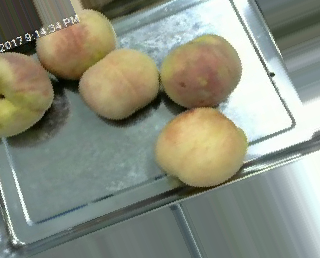Peach: (154, 108, 248, 187), (160, 33, 242, 108), (78, 47, 158, 120), (37, 9, 115, 80)
